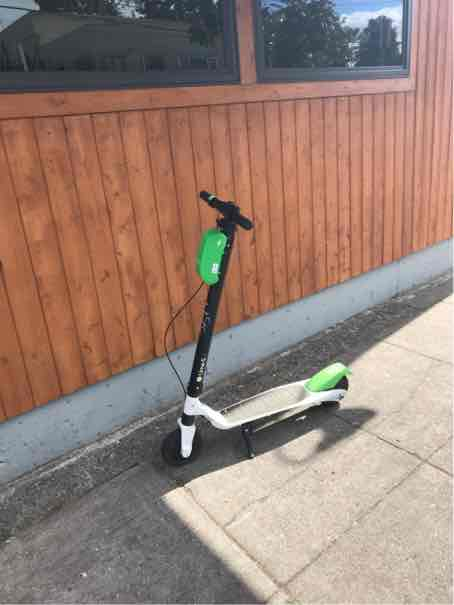scooter: (171, 161, 368, 485)
